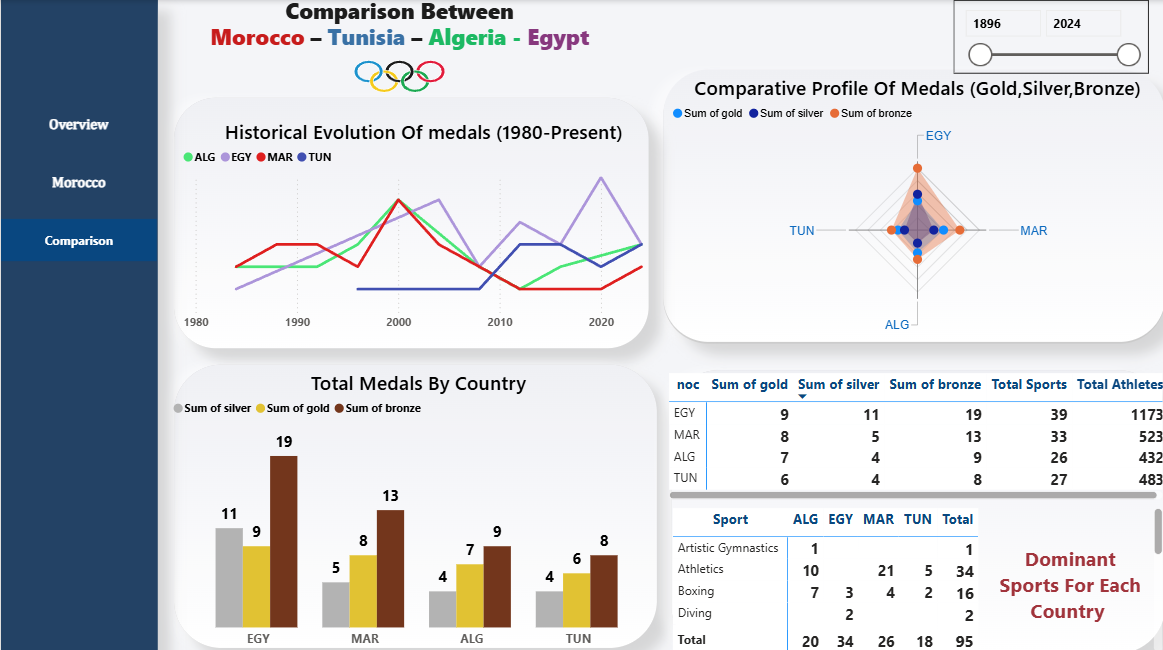

What the dashboard file says about the page in this screenshot:
{"tool":"powerbi","page":{"name":"Comparison","canvas":[1280,720],"ordinal":2},"visuals":[{"type":"pageNavigator","box":[0,113.9,171.5,174.3],"z":0},{"type":"RadarChart1446119667547","title":"Comparative Profile Of Medals (Gold,Silver,Bronze)","fields":{"Category":["medal_table_summary.noc"],"Y":["Sum(medal_table_summary.gold)","Sum(medal_table_summary.silver)","Sum(medal_table_summary.bronze)"]},"box":[732.9,81.4,547.1,291.4],"z":1000},{"type":"lineChart","title":"Historical Evolution Of medals (1980-Present)","fields":{"Category":["Dim_Year.Year"],"Series":["medal_table_summary.noc"],"Y":["Sum(medal_table_summary.Global Mdals)"]},"box":[194.3,128.6,538.6,242.9],"z":2000},{"type":"clusteredColumnChart","title":"Total Medals By Country","fields":{"Category":["medal_table_summary.noc"],"Y":["Sum(medal_table_summary.silver)","Sum(medal_table_summary.gold)","Sum(medal_table_summary.bronze)"]},"box":[184,405,549,316],"z":3000},{"type":"pivotTable","fields":{"Rows":["medal_table_summary.noc"],"Values":["Sum(medal_table_summary.gold)","Sum(medal_table_summary.silver)","Sum(medal_table_summary.bronze)","medal_table_summary.Total Sports","medal_table_summary.Total Athletes"]},"box":[728.6,404.8,551.6,148.2],"z":4000},{"type":"pivotTable","fields":{"Columns":["olympics_dataset_forbi.NOC"],"Rows":["olympics_dataset_forbi.Sport"],"Values":["olympics_dataset_forbi.Medals by Sport"]},"box":[732.9,552.9,547.1,167.1],"z":4001},{"type":"textbox","box":[1088.6,592.9,171.4,102.9],"z":4002},{"type":"slicer","fields":{"Values":["Dim_Year.Year"]},"box":[1045.6,0,214.1,81],"z":4003}]}

Visuals, with their boxes on the page's 1280x720 design canvas (x1, y1, x2, y2). These are canvas units, not pixel positions in the 1163x650 screenshot, which may show the page scaled, cropped or inside an application window:
pageNavigator: BBox(0, 114, 172, 288)
"Comparative Profile Of Medals (Gold,Silver,Bronze)" RadarChart1446119667547: BBox(733, 81, 1280, 373)
"Historical Evolution Of medals (1980-Present)" lineChart: BBox(194, 129, 733, 372)
"Total Medals By Country" clusteredColumnChart: BBox(184, 405, 733, 721)
pivotTable - medal_table_summary.noc x Sum(medal_table_summary.gold): BBox(729, 405, 1280, 553)
pivotTable - olympics_dataset_forbi.NOC x olympics_dataset_forbi.Sport: BBox(733, 553, 1280, 720)
textbox: BBox(1089, 593, 1260, 696)
slicer - Dim_Year.Year: BBox(1046, 0, 1260, 81)
